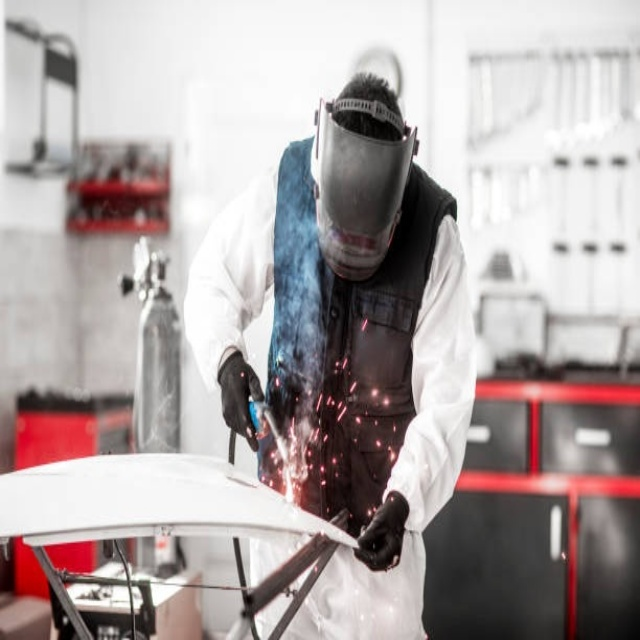Guantes: (218, 351, 264, 449), (356, 490, 410, 572)
